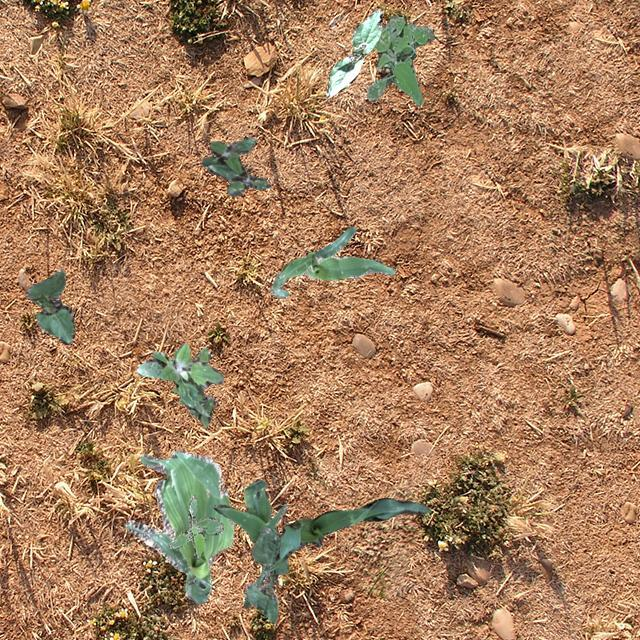crop: (124, 448, 233, 602), (262, 496, 428, 576), (212, 478, 286, 606), (270, 225, 394, 298), (324, 8, 382, 96), (244, 526, 288, 622), (24, 268, 74, 344)
weed: (136, 342, 222, 426), (366, 13, 434, 104), (200, 136, 270, 196), (168, 494, 222, 558)
